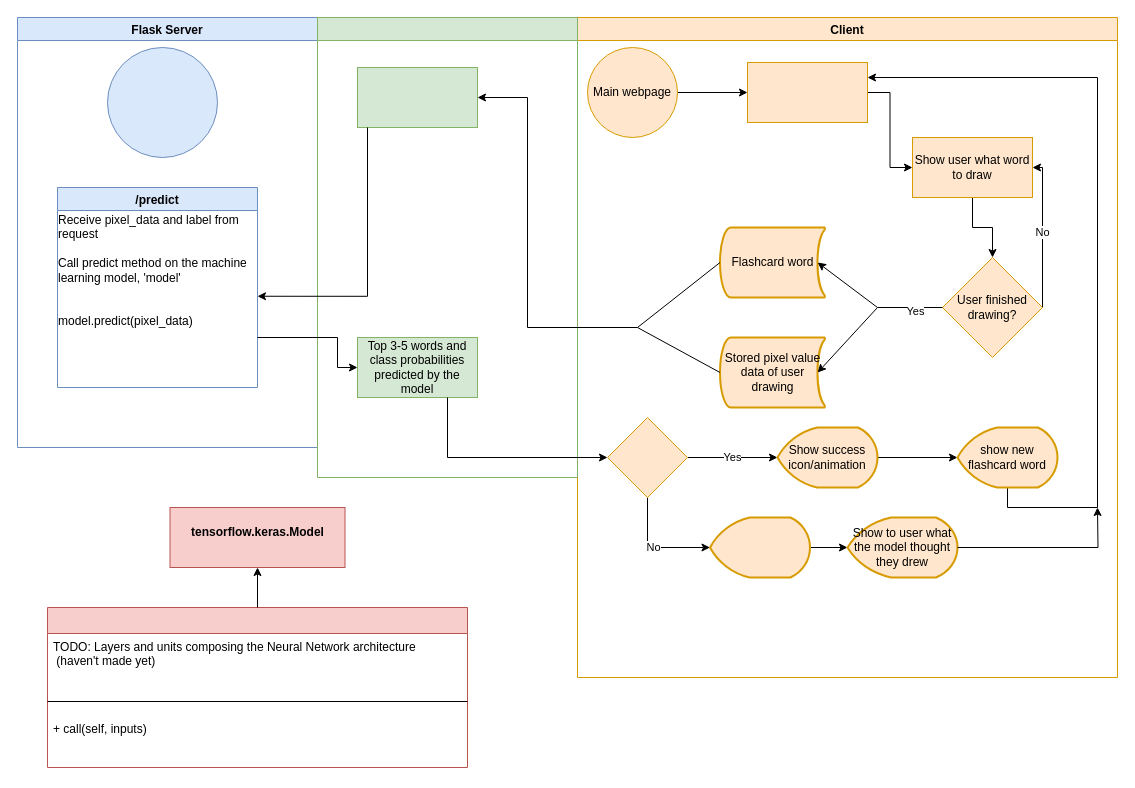
Some shapes in this 1135 by 788 pixel diagram are drawn without their labels. The shapes that lost their labels are listed below. From the top down, each one's box as (x1, y1, x2, y2) in pixels, then its label:
(106, 46, 218, 158): Load pre-trained model from model file
(356, 66, 478, 128): POST request to: "/predict"
(746, 62, 868, 122): Flashcard
(316, 16, 578, 478): Server API request
(606, 416, 688, 498): flashcard word in top words?
(708, 516, 810, 578): Show failure icon/animation
(46, 606, 468, 768): PictureCNN
